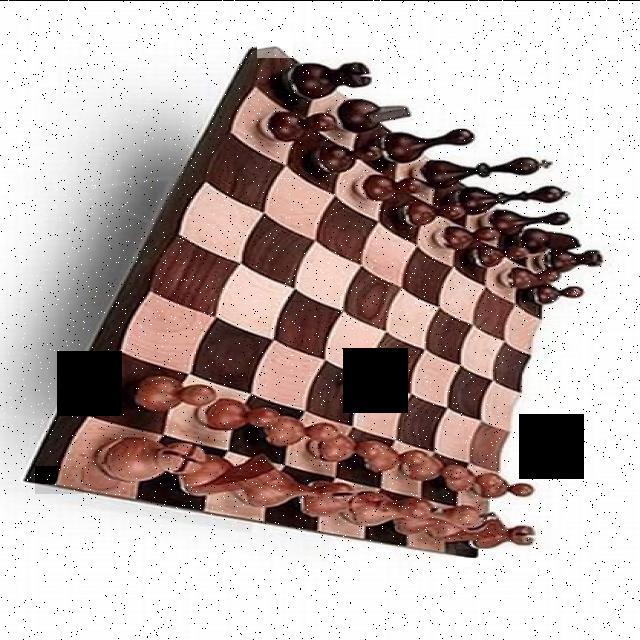chess-table-corners: (35, 465, 84, 493), (257, 30, 293, 56), (456, 548, 489, 566)
